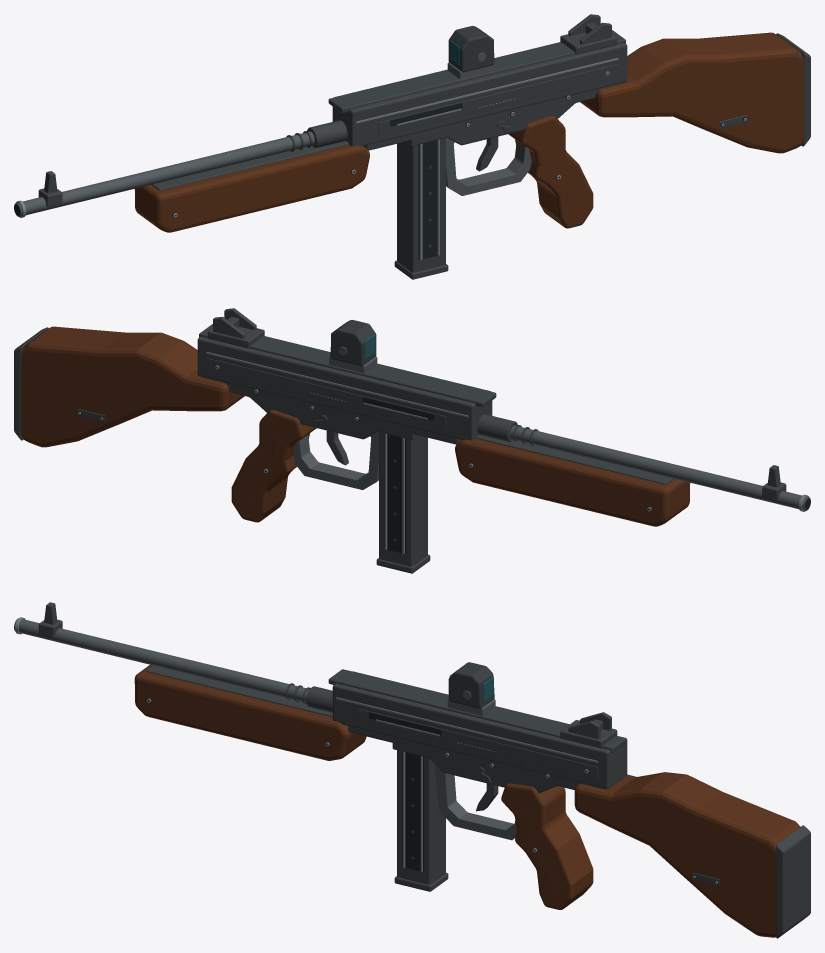
The model's file is thompson.glb.
The picture shows the model from 3 angles, top to bottom: view 1: azimuth 30°, elevation 25°; view 2: azimuth 150°, elevation 25°; view 3: azimuth 330°, elevation 25°; orthographic projection.
Parts seen in each view (by area): view 1: part_stock_surfaces, part_receiver_surfaces, part_handguard_surfaces, part_grip_surfaces, part_magazine_surfaces, part_muzzle_surfaces, part_optic_surfaces, part_sights_surfaces; view 2: part_stock_surfaces, part_receiver_surfaces, part_handguard_surfaces, part_grip_surfaces, part_magazine_surfaces, part_muzzle_surfaces, part_optic_surfaces, part_sights_surfaces; view 3: part_stock_surfaces, part_receiver_surfaces, part_handguard_surfaces, part_grip_surfaces, part_magazine_surfaces, part_muzzle_surfaces, part_optic_surfaces, part_sights_surfaces.
Boxes of the visible parts, bbox=[...] form: part_stock_surfaces: bbox=[580, 32, 810, 153]; part_receiver_surfaces: bbox=[328, 30, 627, 150]; part_handguard_surfaces: bbox=[134, 141, 369, 232]; part_grip_surfaces: bbox=[446, 115, 593, 228]; part_magazine_surfaces: bbox=[394, 132, 448, 279]; part_muzzle_surfaces: bbox=[14, 120, 347, 217]; part_optic_surfaces: bbox=[447, 26, 495, 79]; part_sights_surfaces: bbox=[38, 14, 617, 207]; part_stock_surfaces: bbox=[14, 326, 244, 447]; part_receiver_surfaces: bbox=[197, 324, 496, 444]; part_handguard_surfaces: bbox=[455, 435, 690, 526]; part_grip_surfaces: bbox=[231, 409, 378, 522]; part_magazine_surfaces: bbox=[376, 426, 430, 573]; part_muzzle_surfaces: bbox=[477, 414, 810, 511]; part_optic_surfaces: bbox=[329, 320, 377, 373]; part_sights_surfaces: bbox=[207, 308, 786, 501]; part_stock_surfaces: bbox=[574, 772, 810, 938]; part_receiver_surfaces: bbox=[328, 669, 627, 793]; part_handguard_surfaces: bbox=[134, 664, 366, 760]; part_grip_surfaces: bbox=[434, 764, 593, 909]; part_magazine_surfaces: bbox=[392, 742, 448, 891]; part_muzzle_surfaces: bbox=[14, 617, 332, 712]; part_optic_surfaces: bbox=[447, 662, 495, 715]; part_sights_surfaces: bbox=[38, 602, 617, 748].
Size of the model in its own units: 280 by 77.1 by 18.46.
